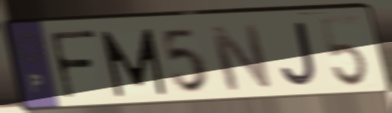5: (317, 13, 373, 90), (162, 26, 212, 96)
F: (46, 28, 100, 104)
J: (278, 20, 319, 90)
M: (97, 26, 170, 100)
N: (206, 22, 276, 94)
